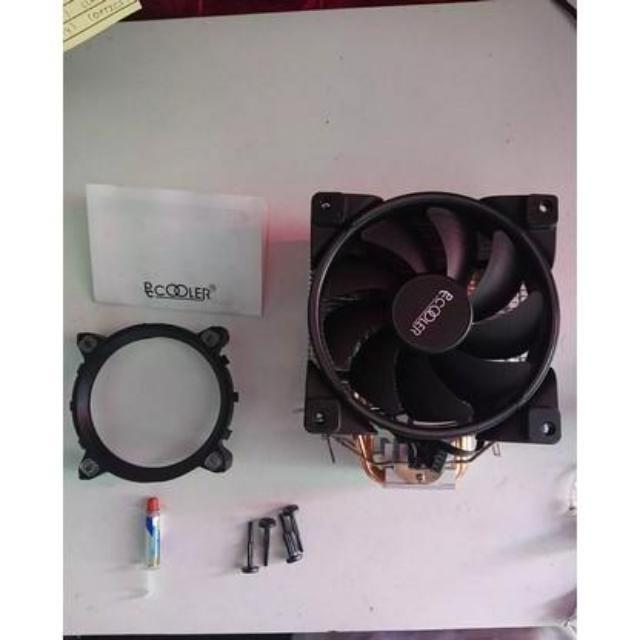CPU_Fan: (304, 188, 564, 494)
